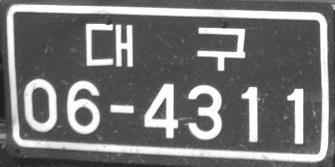0: (23, 77, 57, 132)
1: (233, 85, 269, 143), (280, 87, 314, 145)
3: (187, 83, 223, 139)
4: (143, 82, 177, 138)
6: (67, 79, 101, 134)
대구_D: (84, 22, 247, 70)
